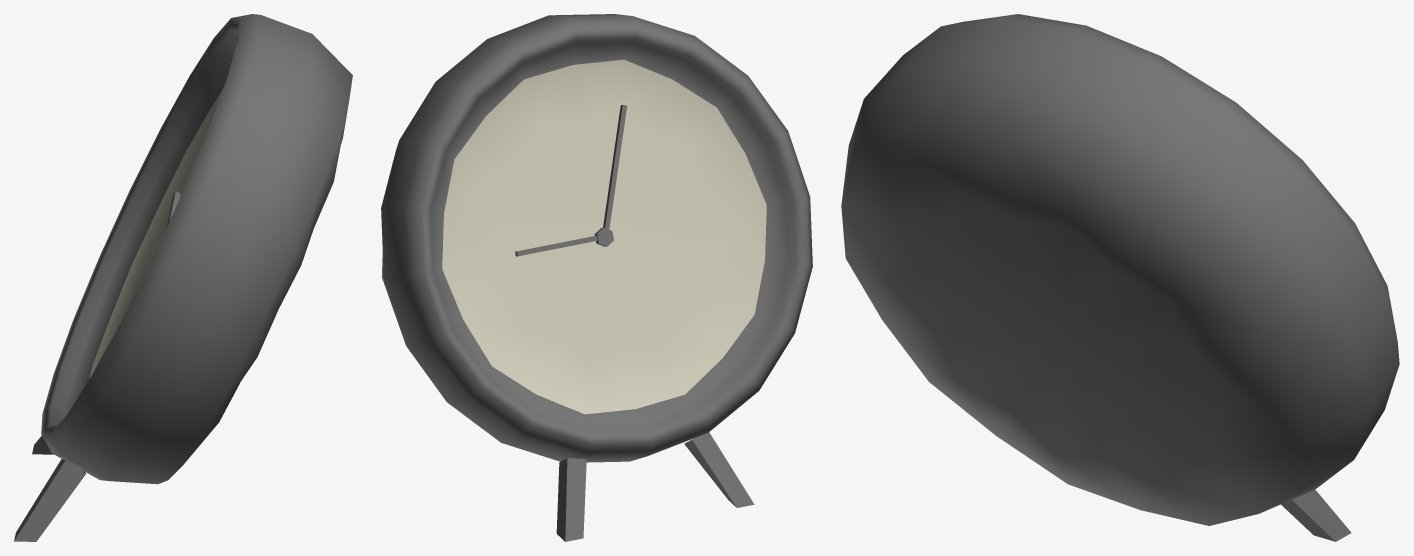
The model's file is clock.fbx.
3 views of the same model, side by side, from view 1: azimuth 30°, elevation 25°; view 2: azimuth 150°, elevation 25°; view 3: azimuth 270°, elevation 25° (orthographic). The views are drawn at different scales.
Visible parts, largest first — view 1: clock_combined; view 2: clock_combined; view 3: clock_combined.
Boxes of the visible parts, left/top/right/bottom form: clock_combined: left=14, top=14, right=352, bottom=541; clock_combined: left=381, top=14, right=812, bottom=541; clock_combined: left=841, top=14, right=1399, bottom=541.
Size of the model in its own units: 0.5931 by 0.7445 by 0.6624.
